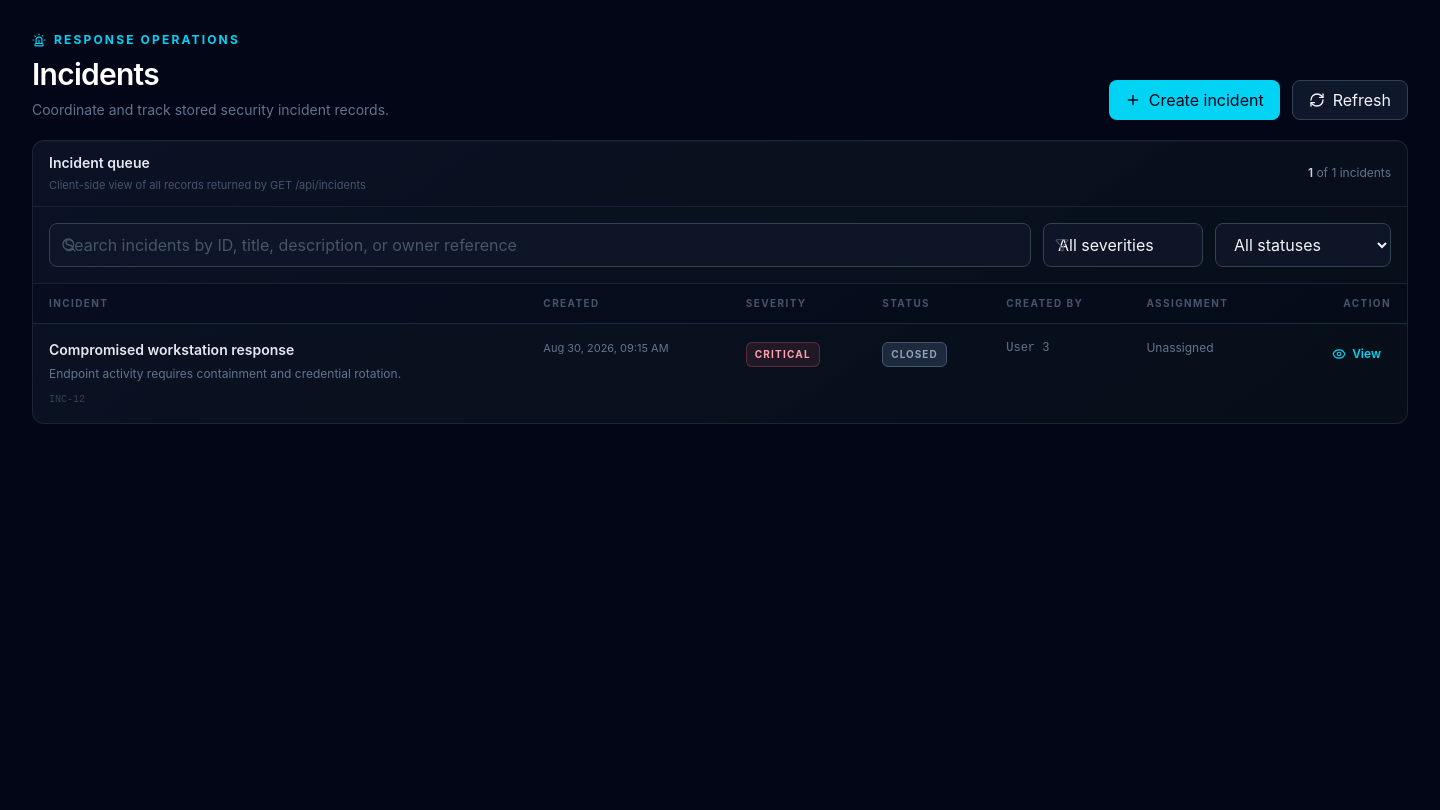
Test: IncidentsPage › renders closed time only when supplied by the API
The image size is (1440, 810).
Click the button with aria-label "Open incident 12" at coordinates (172, 349), box [33,323,1407,422]
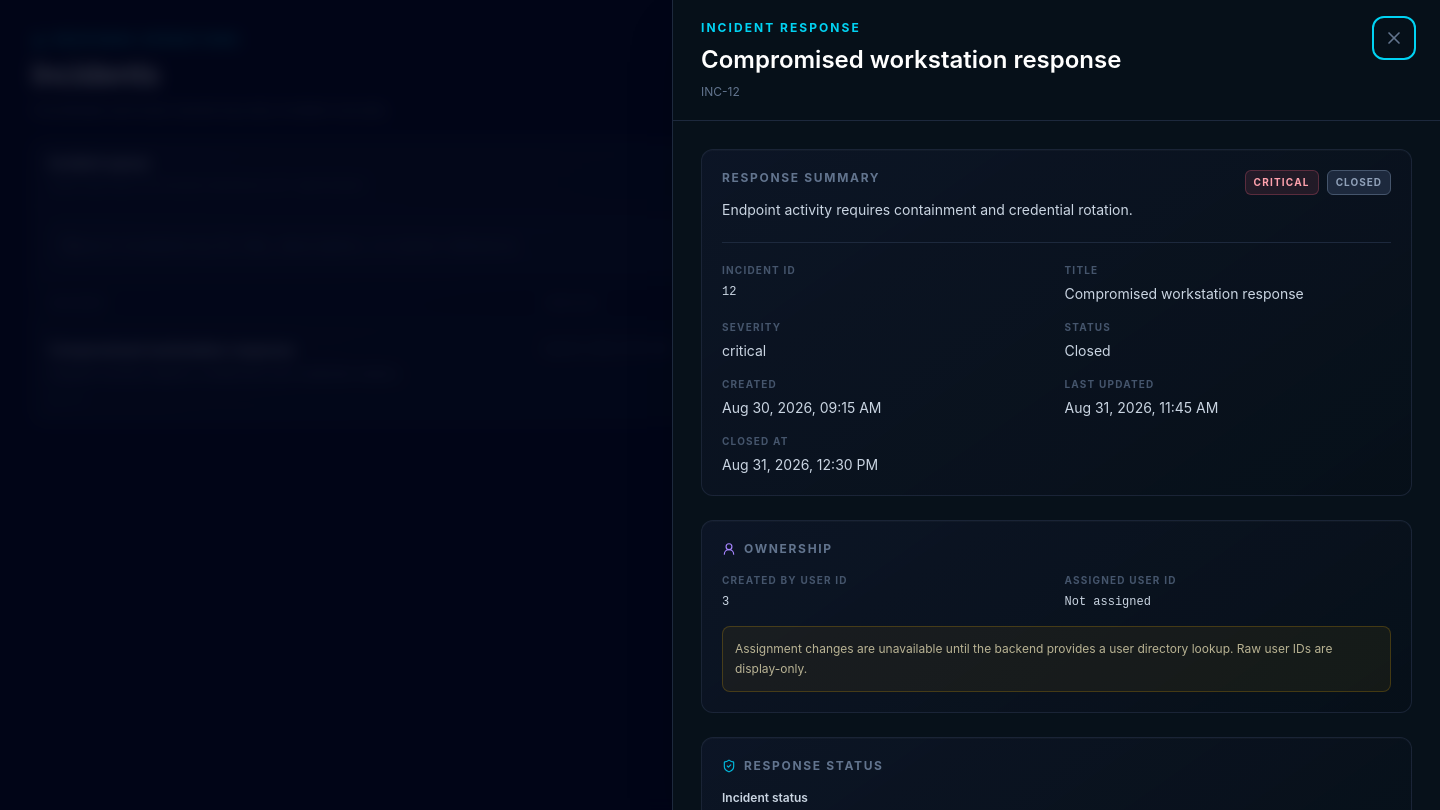
Expected: the dialog shows "Closed at", [722,435,789,447]
Expected: the text "Aug 31, 2026, 12:30 PM" is shown, [722,456,878,473]
